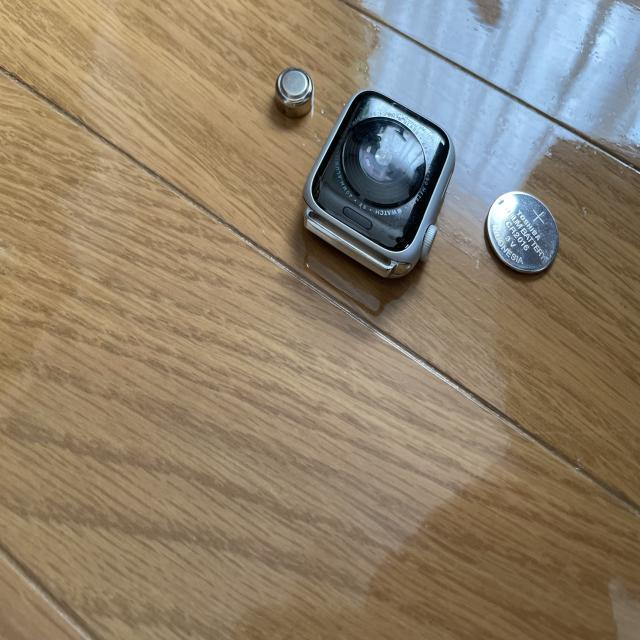COIN: (484, 190, 560, 278), (277, 68, 314, 118)
